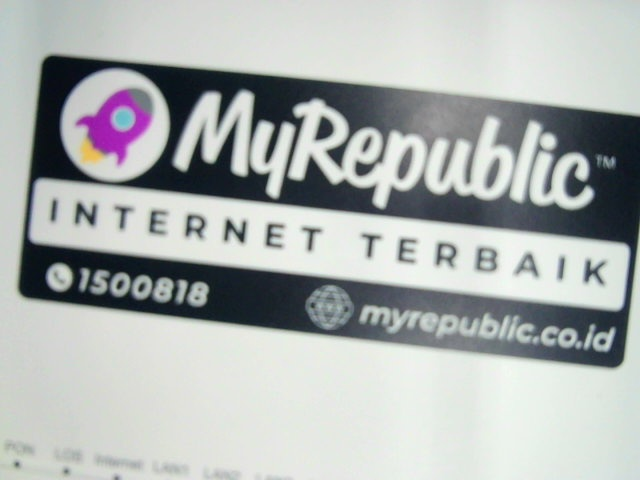BD_MyRepublic: (11, 53, 634, 372)
